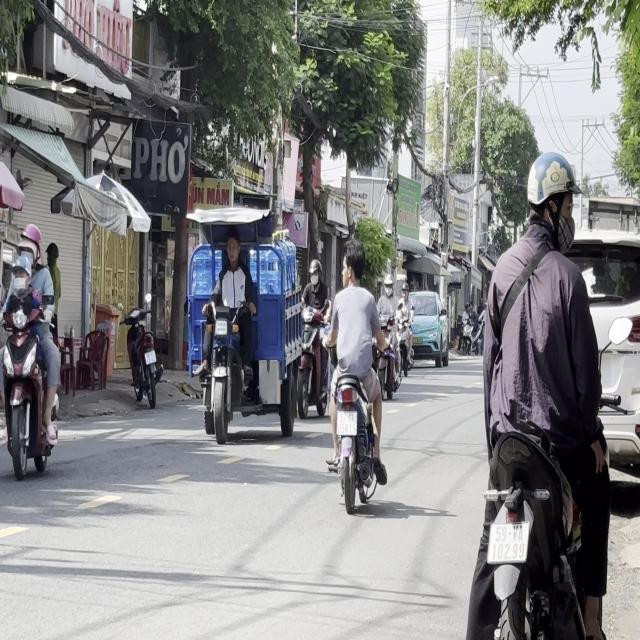helmet: (524, 150, 578, 242), (18, 222, 42, 263), (308, 258, 321, 286)
licenseplate: (462, 145, 622, 635), (187, 204, 304, 440), (324, 245, 389, 511), (0, 221, 63, 478)
motorcyclist: (10, 250, 31, 292), (343, 247, 365, 286), (223, 228, 242, 265)
nohelmet: (488, 522, 528, 561), (337, 411, 357, 435)
